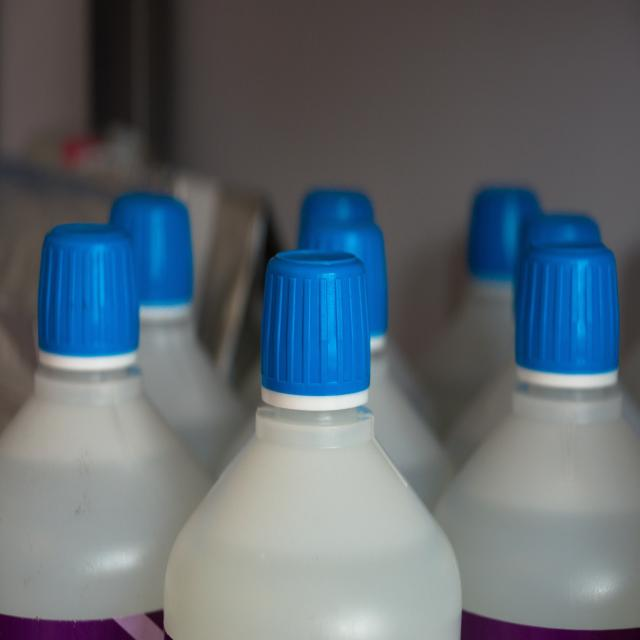plastic_bottle: (163, 246, 463, 637)
